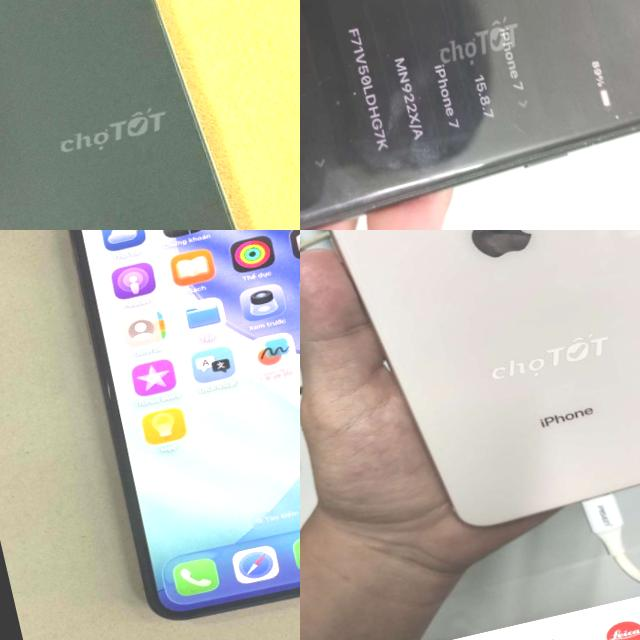scratch: (300, 156, 511, 225), (605, 98, 640, 128)
